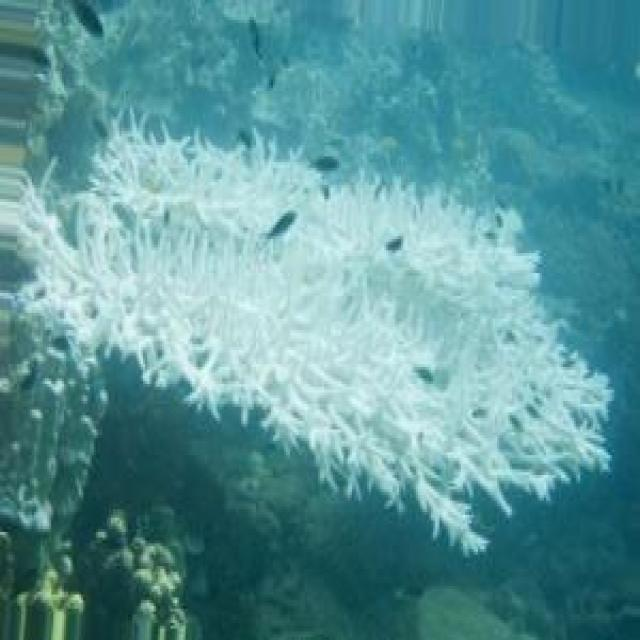bleached coral: (363, 430, 484, 555), (111, 193, 265, 279), (503, 353, 608, 475), (273, 324, 420, 390), (265, 168, 367, 259), (393, 245, 495, 336), (173, 336, 275, 421), (32, 233, 100, 327)
healthy coral: (282, 51, 433, 142), (489, 48, 606, 154), (303, 532, 403, 640), (98, 71, 233, 142), (34, 395, 92, 549), (173, 484, 224, 614)
